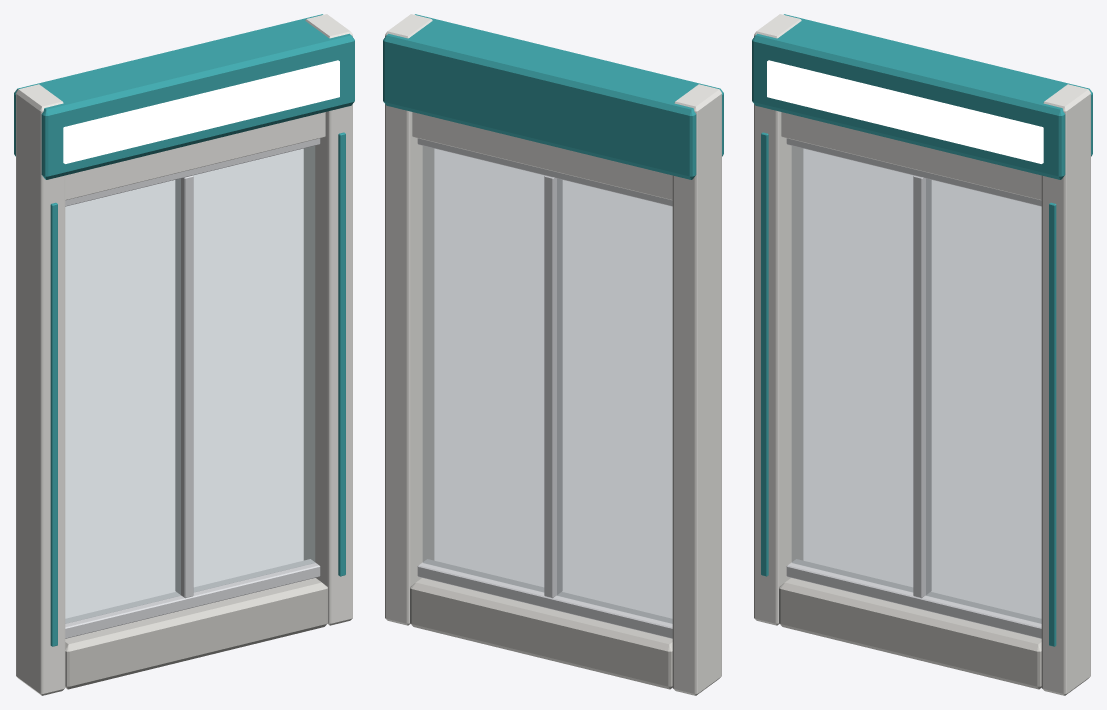
The model's file is motorway-services-and-truck-park-facade-bay-glazed-12e78322__35928.glb.
3 renders of one model, left to right at view 1: azimuth 30°, elevation 25°; view 2: azimuth 150°, elevation 25°; view 3: azimuth 330°, elevation 25°, orthographic.
Parts seen in each view (by area): view 1: facade-bay-glazed; view 2: facade-bay-glazed; view 3: facade-bay-glazed.
Boxes of the visible parts, x1,y1,x2,y2 form: facade-bay-glazed: (14,14,354,695); facade-bay-glazed: (383,14,723,695); facade-bay-glazed: (752,14,1092,695).
Size of the model in its own units: 2 by 3.6 by 0.3819.
